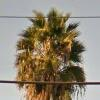Tree: (17, 5, 90, 100)
